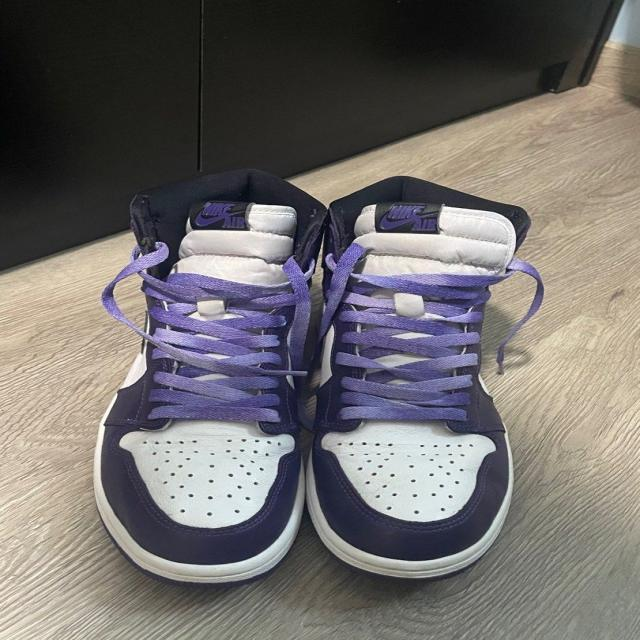nike original jordan 1: (86, 166, 338, 586), (302, 173, 530, 581)
